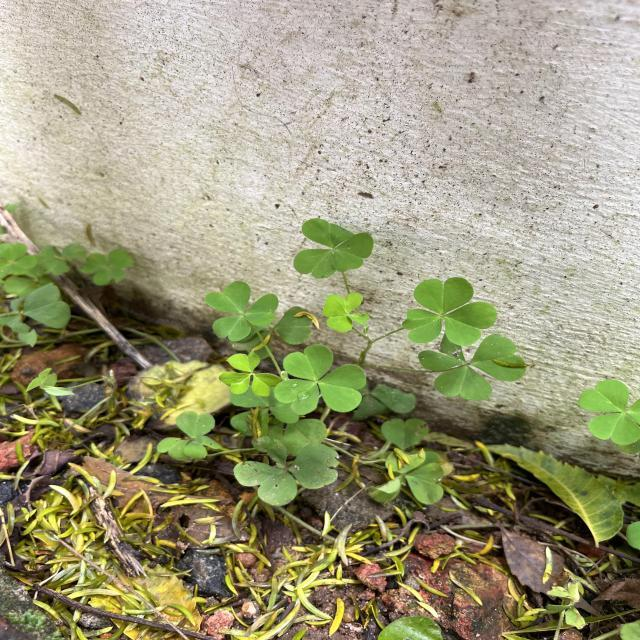Oxalis corniculata: (232, 435, 340, 507), (417, 333, 528, 401), (401, 276, 498, 347), (273, 343, 367, 416), (293, 218, 375, 279), (203, 280, 280, 342), (576, 378, 640, 445), (218, 348, 282, 397), (156, 410, 217, 460), (322, 291, 370, 333)
